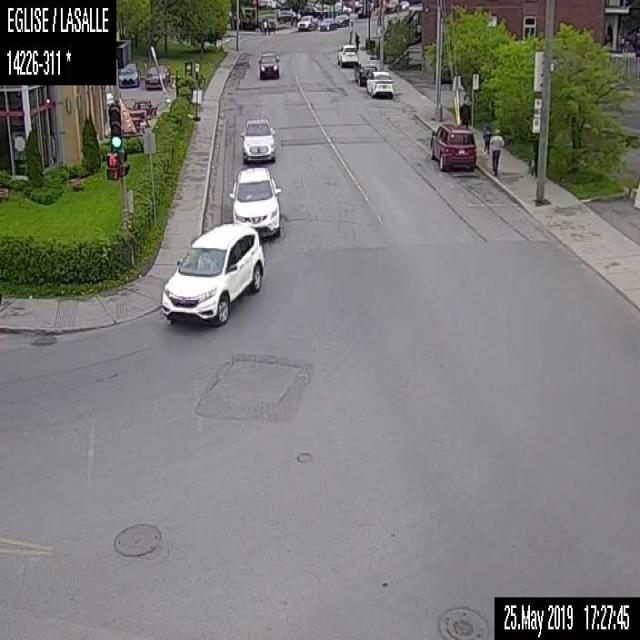pedestrian: (488, 129, 505, 176), (457, 83, 471, 125), (481, 120, 489, 155), (354, 30, 359, 50), (262, 17, 267, 34)
vehicle: (159, 221, 263, 327), (227, 165, 281, 240), (428, 121, 478, 171), (239, 117, 276, 162), (364, 70, 393, 98), (258, 51, 279, 80), (144, 64, 170, 87), (353, 61, 377, 85), (335, 44, 358, 66), (118, 62, 139, 86), (296, 14, 318, 31), (275, 8, 299, 22), (317, 15, 336, 30), (334, 14, 349, 26)
